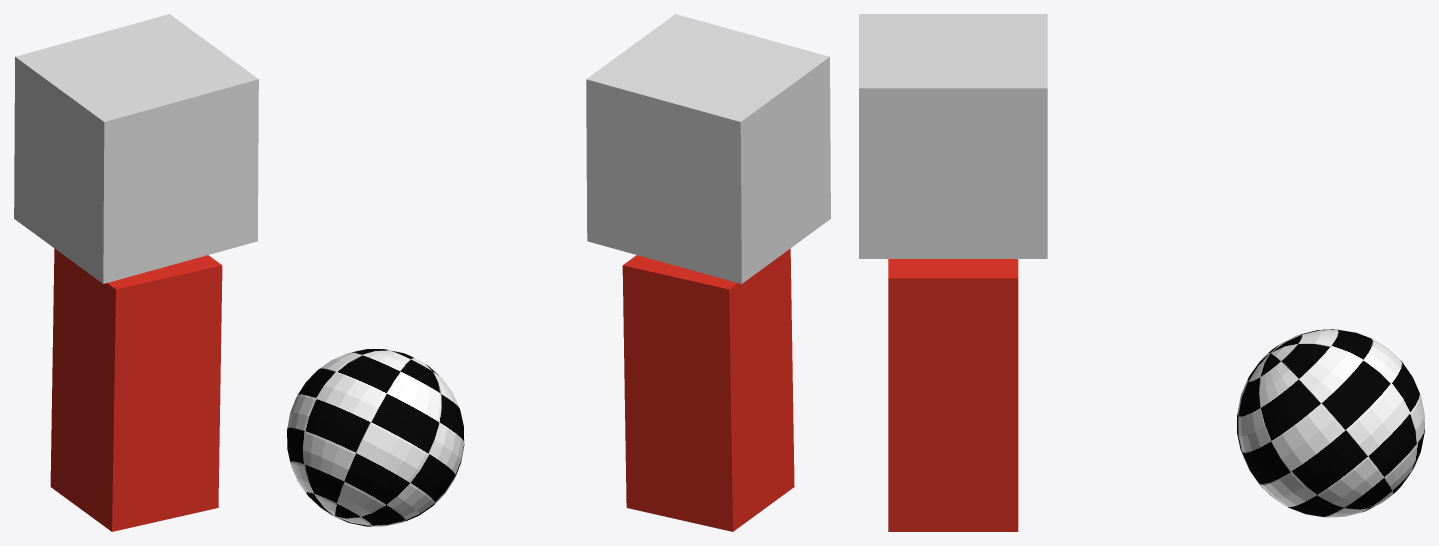
File: ball.fbx
3 views of the same model, side by side, from view 1: azimuth 30°, elevation 25°; view 2: azimuth 150°, elevation 25°; view 3: azimuth 270°, elevation 25° (orthographic). The views are drawn at different scales.
Parts seen in each view (by area): view 1: Cube.B, Cube; view 2: Cube.B, Cube, ball; view 3: Cube.B, Cube, ball.
Boxes of the visible parts, box(x1,y1,x2,y2) form: Cube.B: box(14, 14, 258, 283); Cube: box(50, 248, 222, 531); Cube.B: box(586, 14, 830, 283); Cube: box(622, 248, 794, 531); ball: box(287, 349, 464, 526); Cube.B: box(859, 14, 1047, 258); Cube: box(888, 259, 1018, 531); ball: box(1237, 329, 1424, 517).
Bounding box in the file's own units: 400 × 535 × 600.
